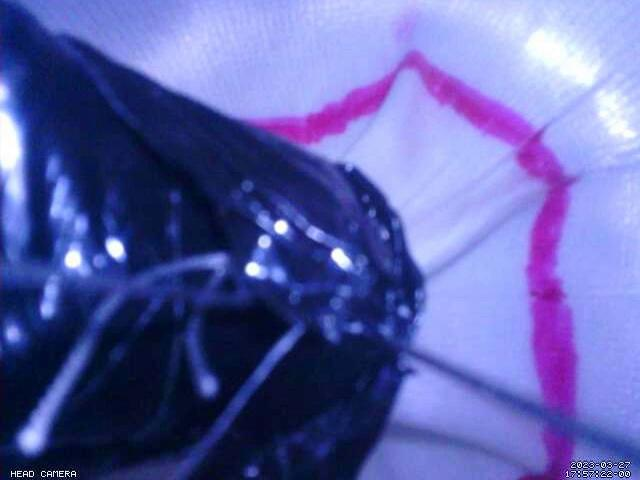red-circle: (240, 48, 579, 480)
